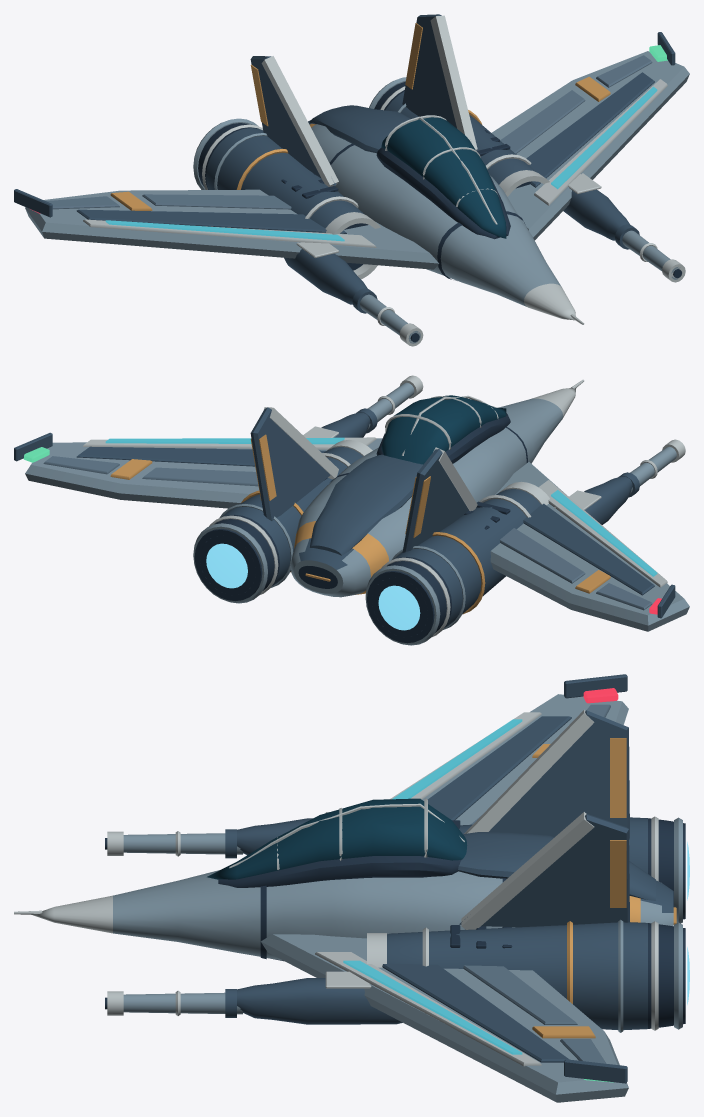
Rendered from player.glb.
3 renders of one model, top to bottom at view 1: azimuth 30°, elevation 25°; view 2: azimuth 150°, elevation 25°; view 3: azimuth 270°, elevation 25°, orthographic. The views are drawn at different scales.
Visible parts, largest first — view 1: airframe-hull, airframe-glass, airframe-accent, airframe-neon; view 2: airframe-hull, airframe-accent, airframe-glass, airframe-neon, engine-core-1, engine-core--1; view 3: airframe-hull, airframe-glass, airframe-accent, airframe-neon.
Part boxes in pixels (x1,y1,x2,y2): airframe-hull: [14, 14, 689, 346]; airframe-glass: [381, 117, 506, 238]; airframe-accent: [198, 81, 681, 342]; airframe-neon: [105, 86, 657, 241]; airframe-hull: [14, 375, 689, 645]; airframe-accent: [194, 413, 527, 643]; airframe-glass: [381, 395, 506, 464]; airframe-neon: [105, 437, 657, 576]; engine-core-1: [206, 543, 247, 588]; engine-core--1: [378, 585, 420, 630]; airframe-hull: [14, 674, 682, 1102]; airframe-glass: [207, 798, 467, 879]; airframe-accent: [105, 818, 685, 1028]; airframe-neon: [343, 719, 522, 1054].
Bounding box in the file's own units: 7.9 × 1.99 × 5.73.
